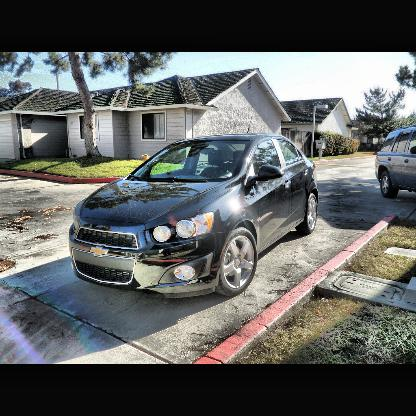Chevrolet Sonic Sedan 2012: (69, 135, 318, 298)
